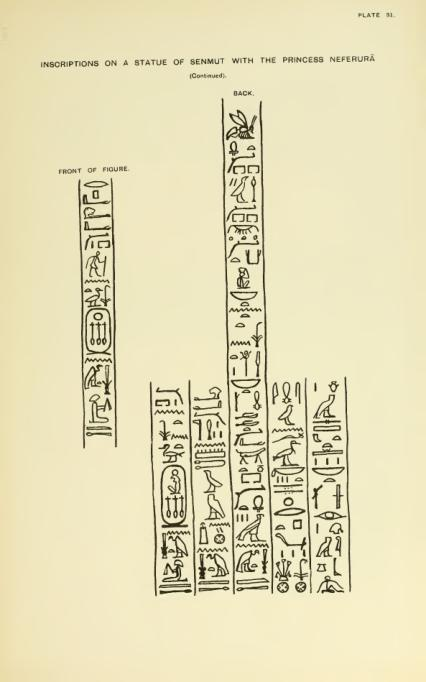circle: (160, 464, 190, 530), (83, 308, 113, 356)
